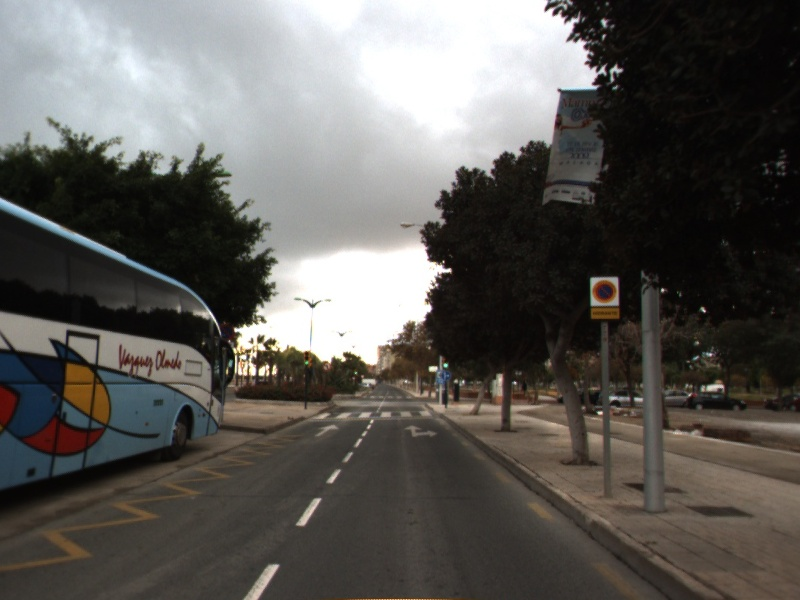STRAIGHT: (312, 422, 341, 438)
STRAIGHT_RIGHT: (402, 423, 441, 439)
